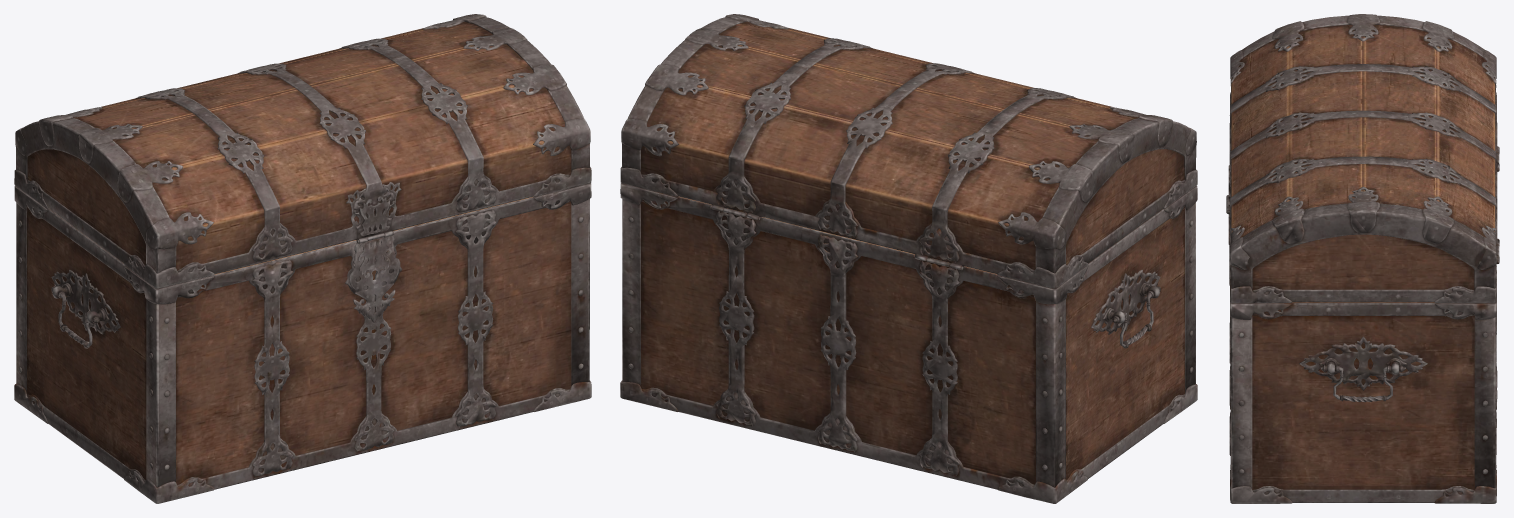
Rendered from treasure_chest.glb.
3 views of the same model, side by side, from view 1: azimuth 30°, elevation 25°; view 2: azimuth 150°, elevation 25°; view 3: azimuth 270°, elevation 25° (orthographic). The views are drawn at different scales.
Visible parts, largest first — view 1: treasure_chest_bottom, treasure_chest_lid, treasure_chest_lock; view 2: treasure_chest_bottom, treasure_chest_lid; view 3: treasure_chest_lid, treasure_chest_bottom, treasure_chest_handle_right.
Part boxes in pixels (box(x1,y1,x2,y2)): treasure_chest_bottom: box(14, 183, 591, 503); treasure_chest_lid: box(14, 14, 591, 288); treasure_chest_lock: box(349, 233, 399, 322); treasure_chest_bottom: box(620, 183, 1197, 503); treasure_chest_lid: box(620, 14, 1197, 288); treasure_chest_lid: box(1226, 14, 1499, 303); treasure_chest_bottom: box(1229, 152, 1499, 503); treasure_chest_handle_right: box(1320, 365, 1406, 402).
Size of the model in its own units: 2 by 1.29 by 1.09.
Materials: 1 (1 with a texture image).
